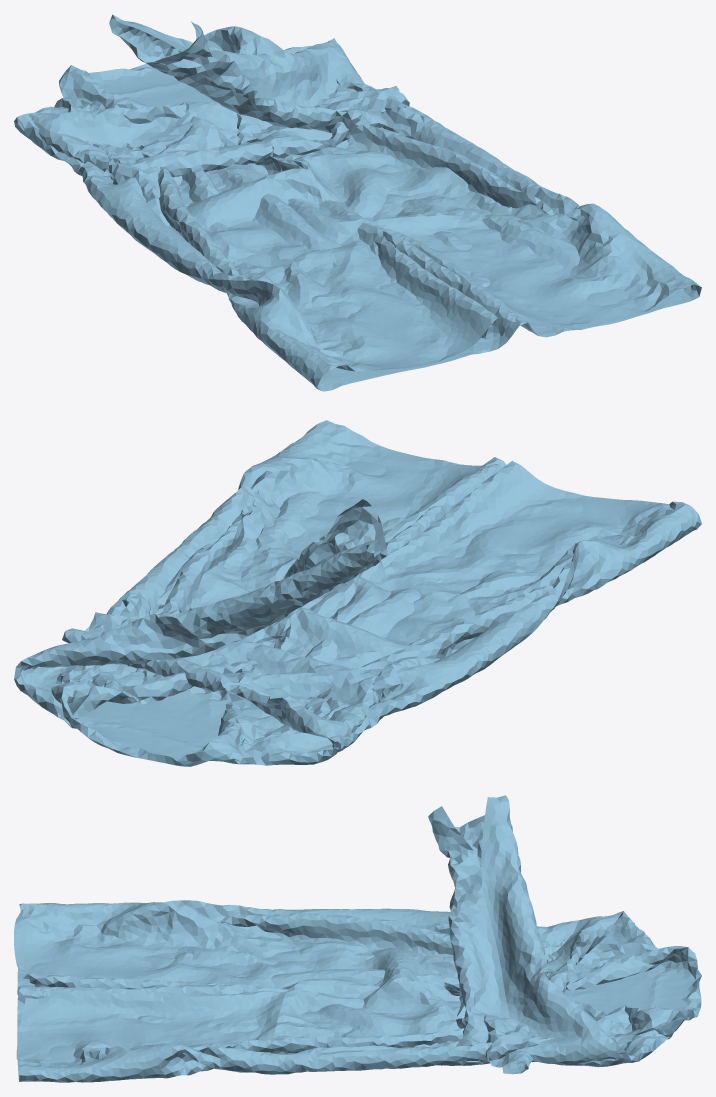
Rendered from frame_18.glb.
3 views of the same model, one above another, from view 1: azimuth 30°, elevation 25°; view 2: azimuth 150°, elevation 25°; view 3: azimuth 270°, elevation 25° (orthographic). The views are drawn at different scales.
Parts seen in each view (by area): view 1: frame_18.obj; view 2: frame_18.obj; view 3: frame_18.obj.
Boxes of the visible parts, left/top/right/bottom form: frame_18.obj: left=14, top=14, right=701, bottom=391; frame_18.obj: left=14, top=420, right=701, bottom=766; frame_18.obj: left=14, top=795, right=701, bottom=1082.
Bounding box in the file's own units: 0.961 × 0.4233 × 1.65.
